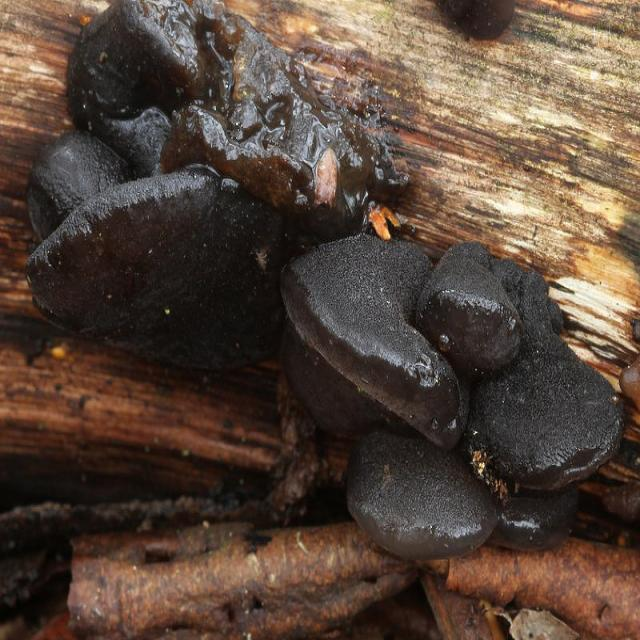Auricularia auricula: (32, 4, 622, 553)
